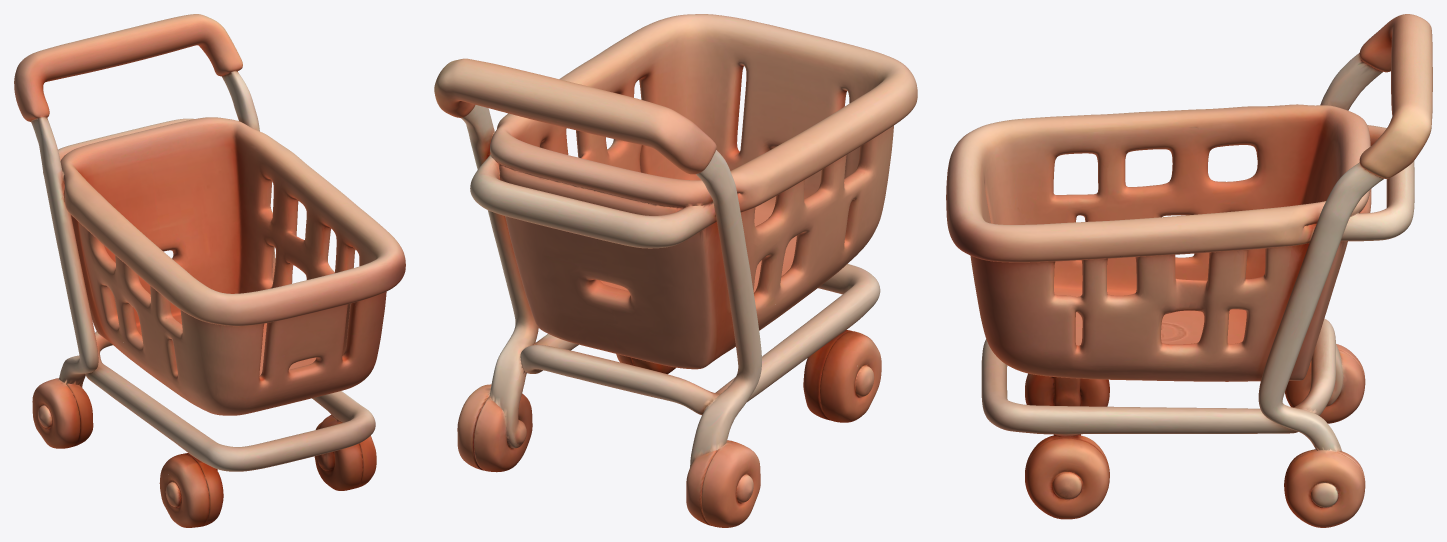
Rendered from cart.glb.
3 renders of one model, left to right at view 1: azimuth 30°, elevation 25°; view 2: azimuth 150°, elevation 25°; view 3: azimuth 270°, elevation 25°, orthographic. The views are drawn at different scales.
Visible parts, largest first — view 1: tripo_node_496cd151-b09c-40f0-9e73-58b9d450e1db; view 2: tripo_node_496cd151-b09c-40f0-9e73-58b9d450e1db; view 3: tripo_node_496cd151-b09c-40f0-9e73-58b9d450e1db.
Part boxes in pixels (box(x1,y1,x2,y2)): tripo_node_496cd151-b09c-40f0-9e73-58b9d450e1db: box(14, 14, 405, 527); tripo_node_496cd151-b09c-40f0-9e73-58b9d450e1db: box(434, 14, 917, 527); tripo_node_496cd151-b09c-40f0-9e73-58b9d450e1db: box(946, 14, 1432, 527).
Size of the model in its own units: 0.6069 by 0.9198 by 0.9803.
Materials: 1 (1 with a texture image).
